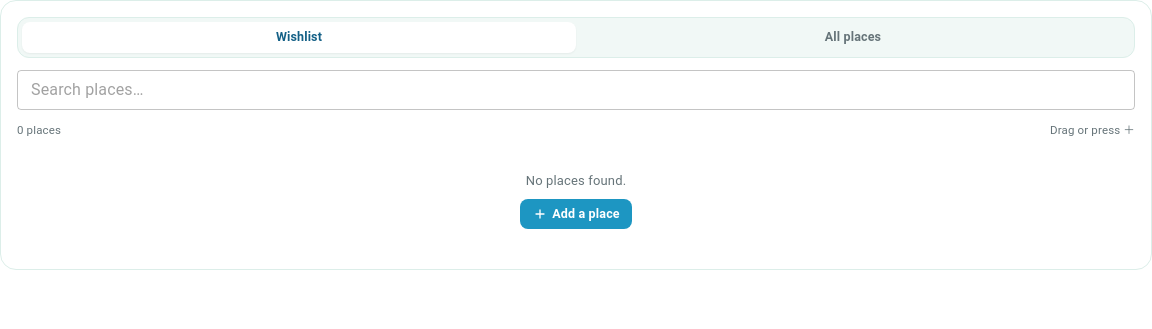
Test case: Bước 2 — tạo place ngay trong panel chọn địa điểm › có kết quả vẫn luôn có lối "Thêm địa điểm" ở cuối danh sách
Click the button "All places" at (853, 37), box [576,22,1130,53]
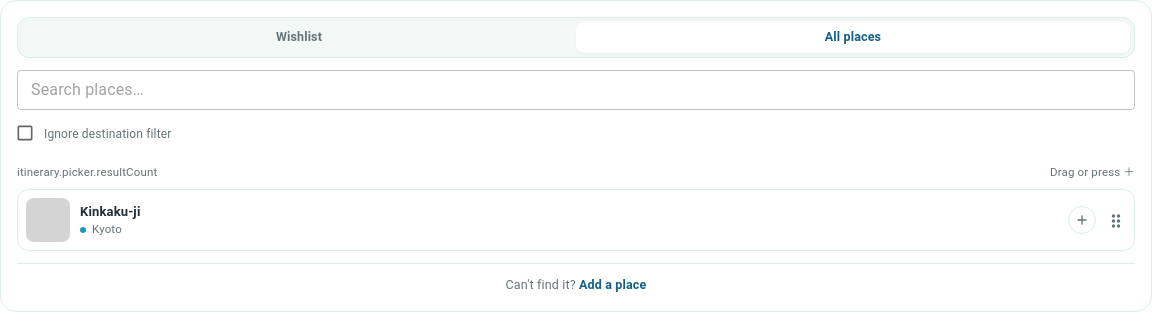
Check: the button "Add a place" is shown, box [579,276,646,295]
Check: the text "Kinkaku-ji" is shown, box [80,202,140,221]
